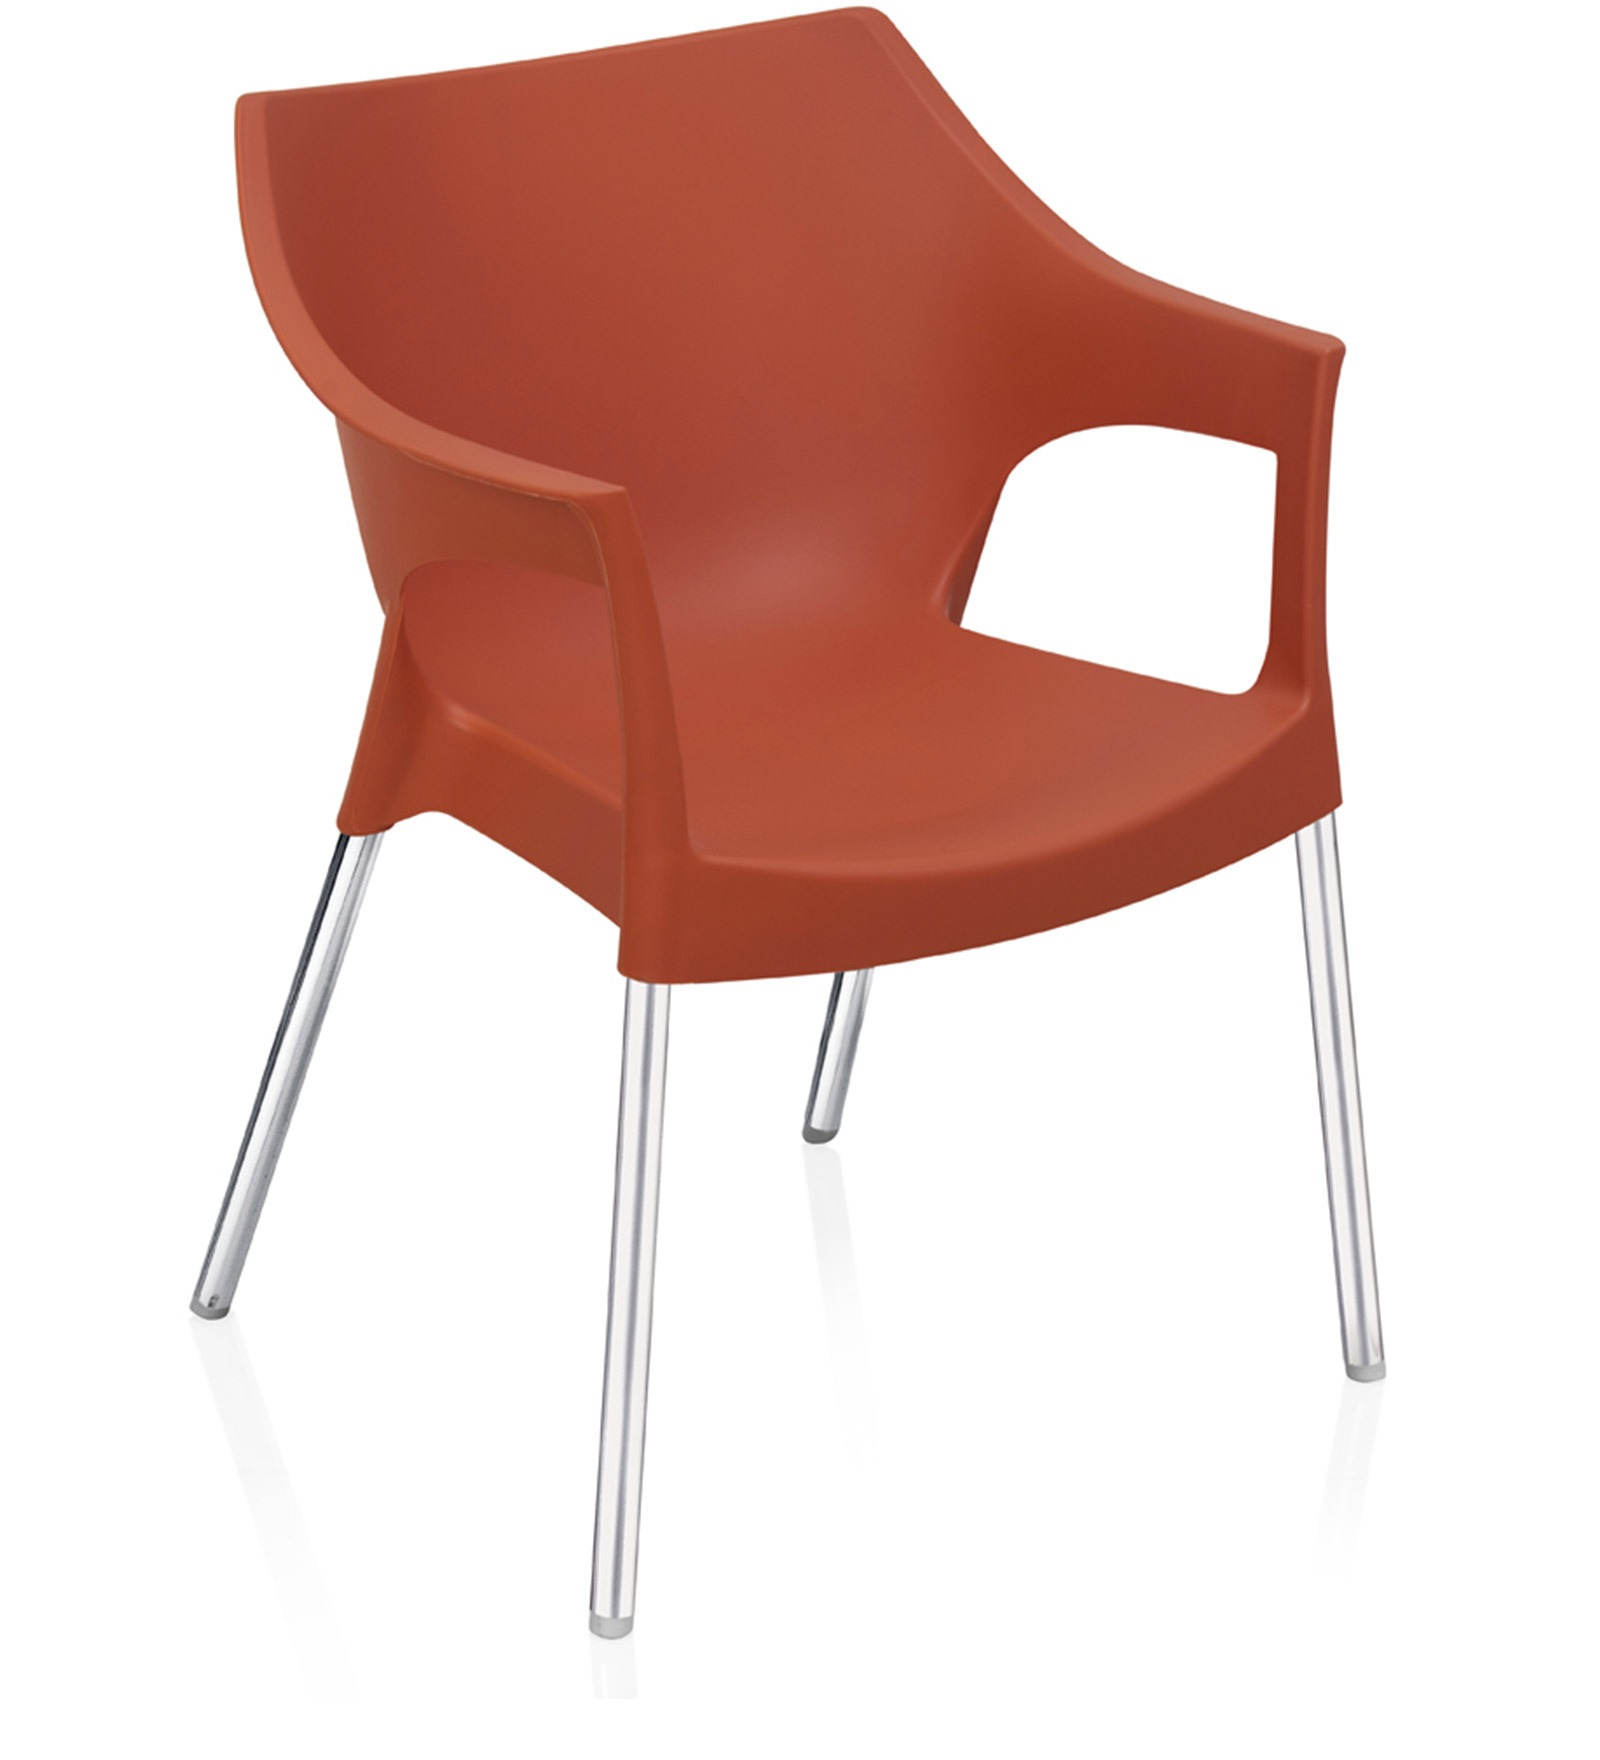Novella Series - 10 Chair (Set of 2) in Rust Colour by Nilkamal: (193, 5, 1395, 1637)
